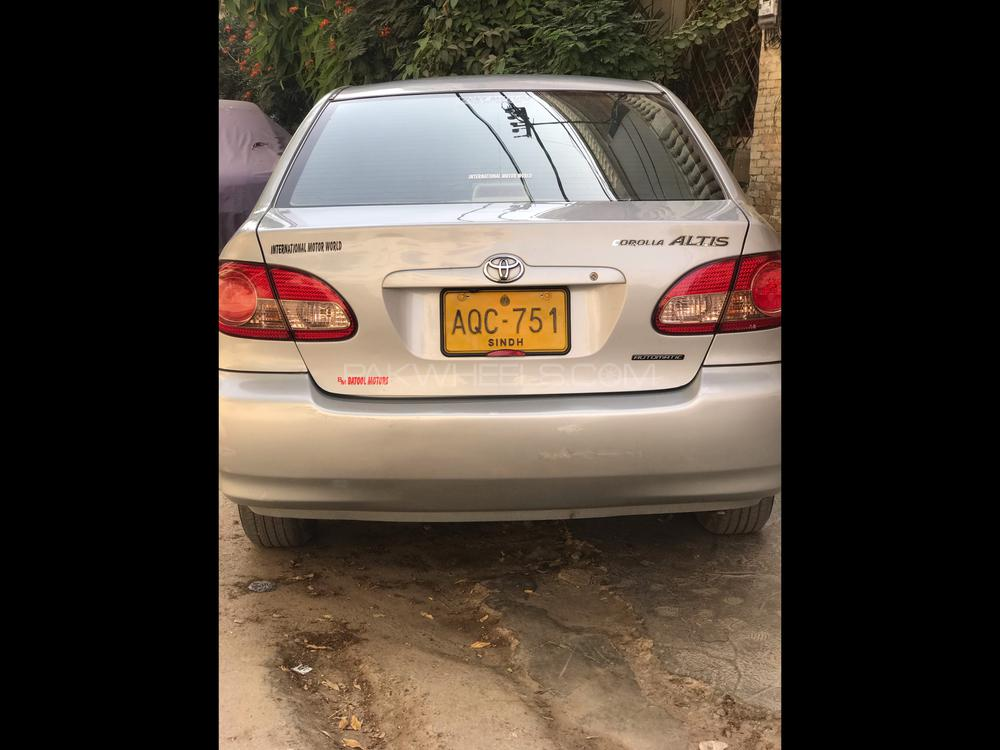license plate: (444, 291, 569, 349)
